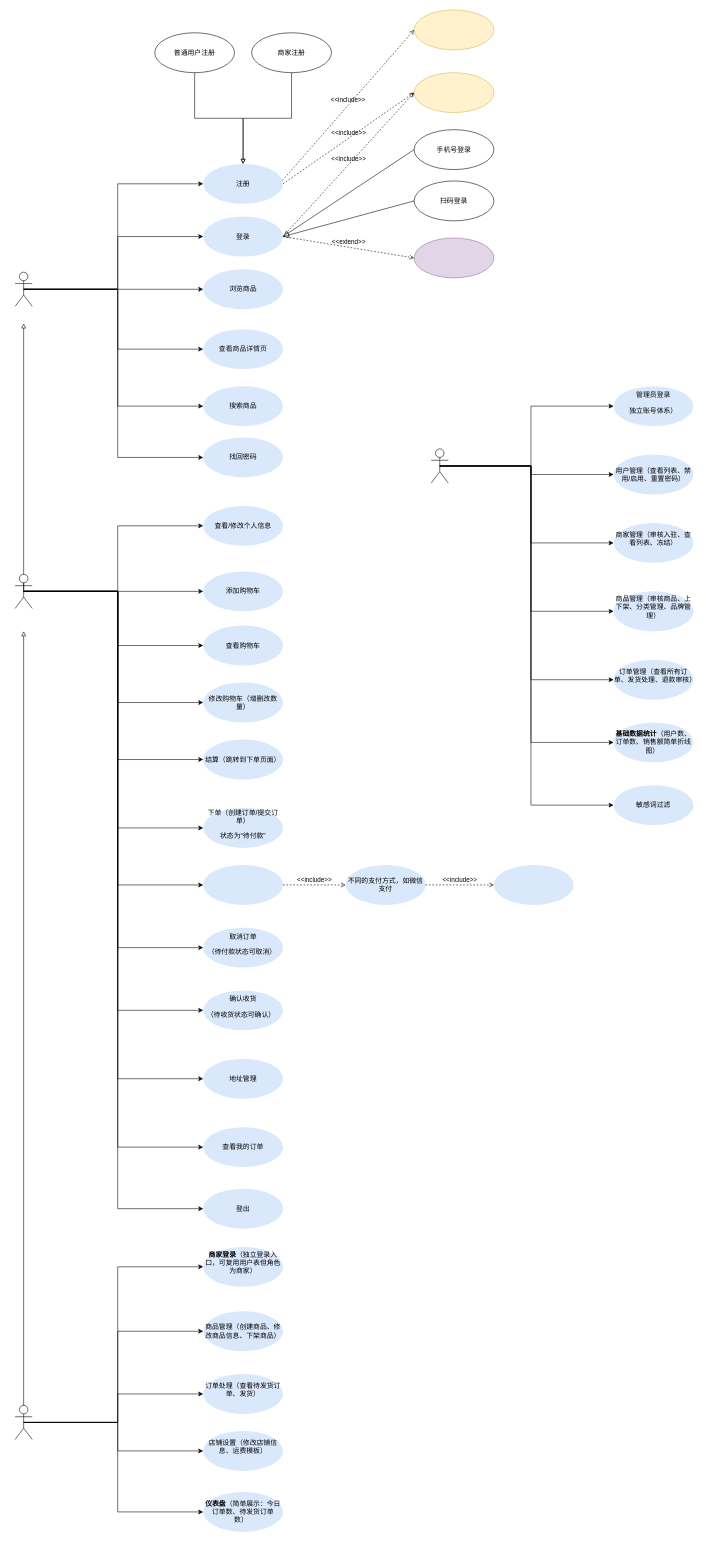
Some shapes in this 706 by 1542 pixel diagram are drawn without their labels. The shapes that lost their labels are listed below. From the top down, each one's centre as x and y in pixels, then its label:
(x=454, y=29): 手机号注册
(x=454, y=92): 安全验证
(x=454, y=257): 首次登录奖励
(x=23, y=289): 游客
(x=439, y=465): 管理员
(x=23, y=591): 普通用户
(x=243, y=885): 支付订单
(x=533, y=885): 支付成功回调，订单状态变“待发货”
(x=23, y=1422): 商家
